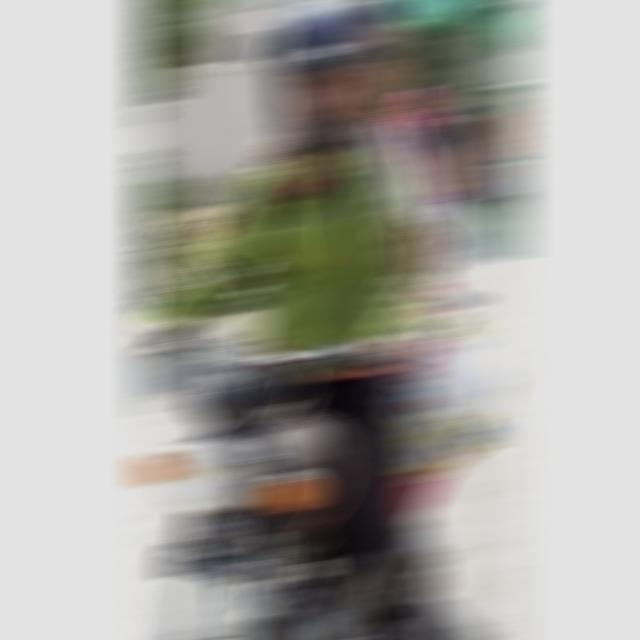With Helmet: (265, 1, 371, 152)
Without Helmet: (347, 1, 411, 99)
